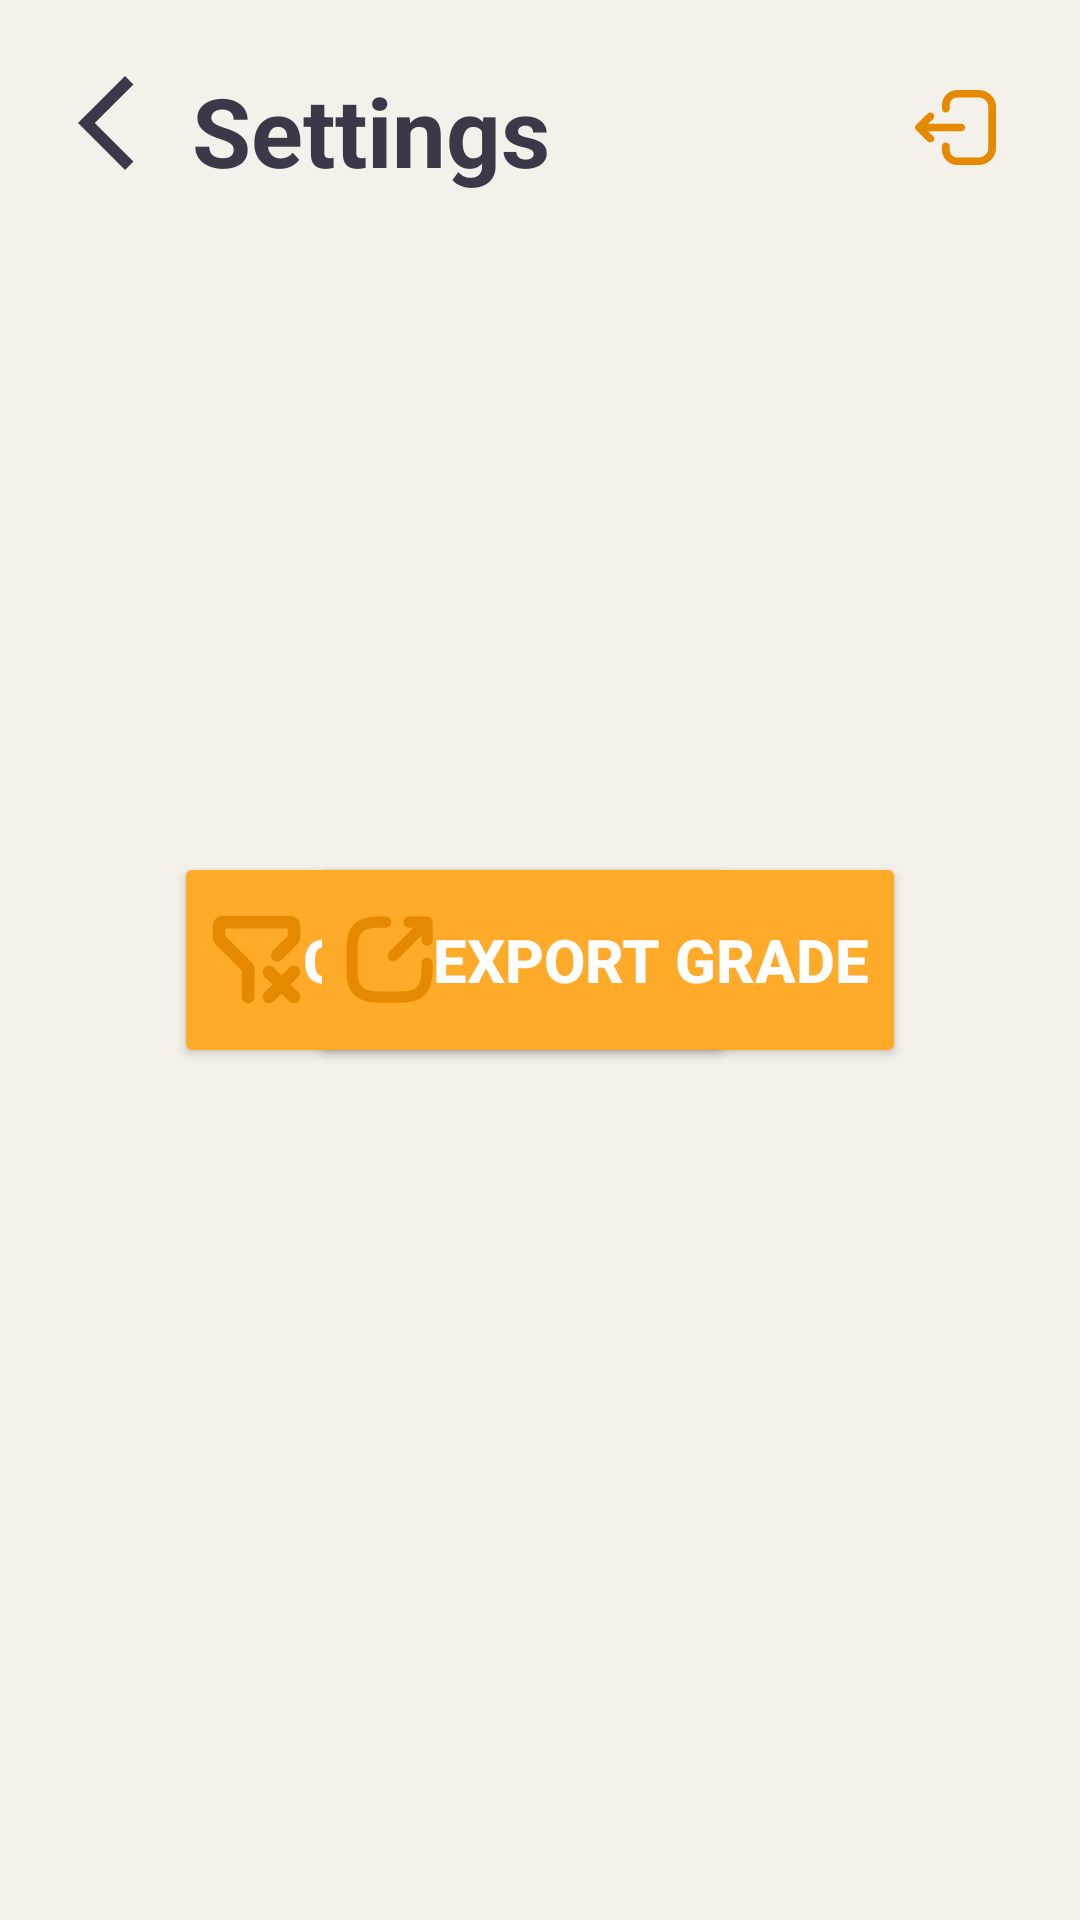

Screen size 1080px x 1920px. Icon name, then its box in pixels as (x1, y1, x2, y2):
arrow back: (78, 76, 134, 170)
